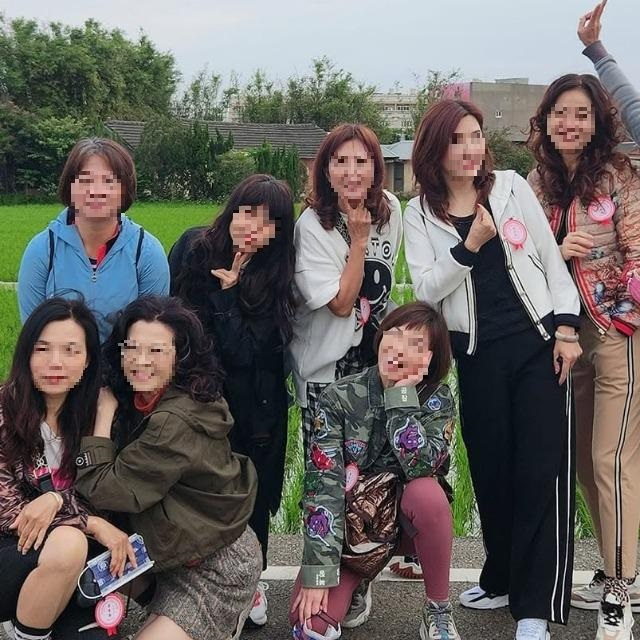NoHelmet: (57, 135, 143, 225), (413, 97, 491, 182), (313, 121, 389, 207), (222, 170, 296, 255)
